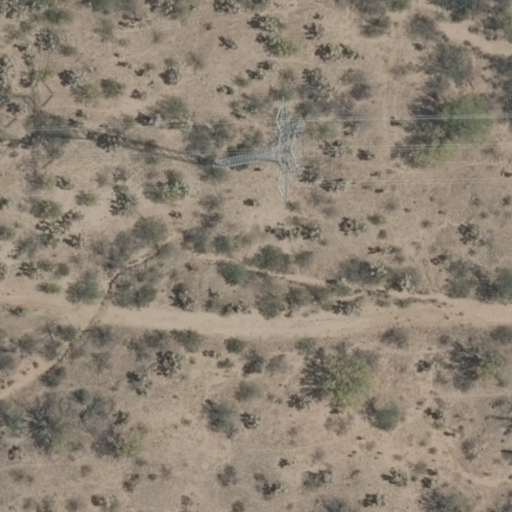TT: (207, 88, 314, 204)
